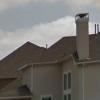Chimney: (70, 7, 94, 63)
